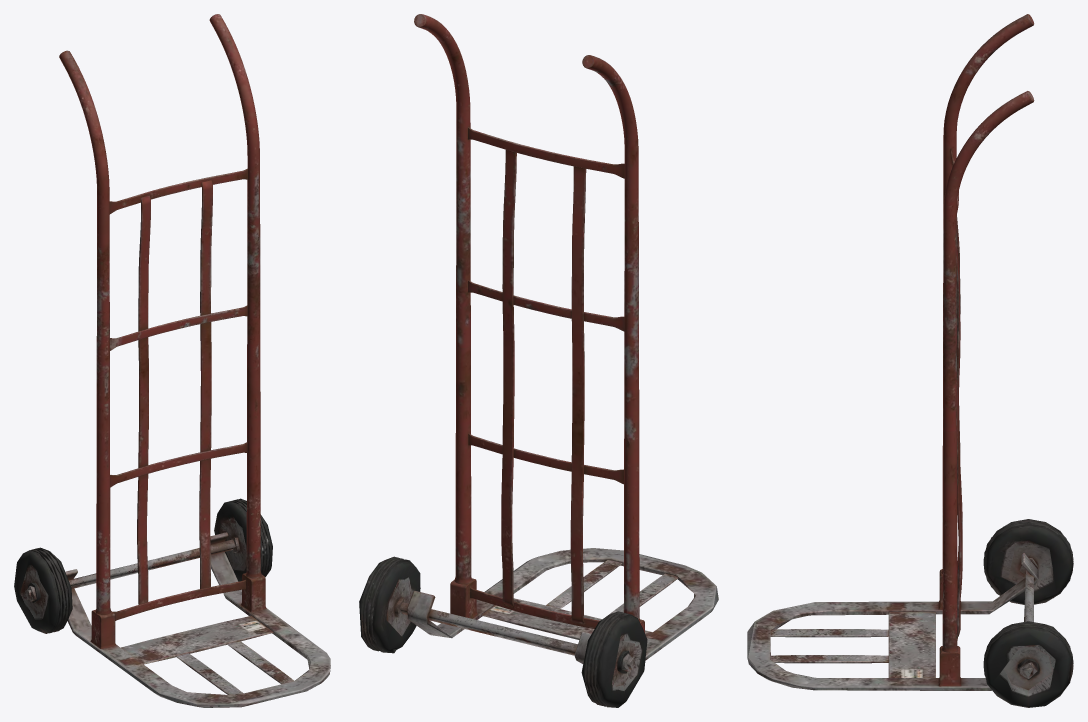
File: handtruck.glb
The picture shows the model from 3 angles, left to right: view 1: azimuth 30°, elevation 25°; view 2: azimuth 150°, elevation 25°; view 3: azimuth 270°, elevation 25°; orthographic projection. The views are drawn at different scales.
Parts seen in each view (by area): view 1: hand_truck; view 2: hand_truck; view 3: hand_truck.
Boxes of the visible parts, x1=… form: hand_truck: x1=14, y1=14, x2=330, y2=707; hand_truck: x1=359, y1=14, x2=718, y2=707; hand_truck: x1=747, y1=14, x2=1073, y2=707.
Size of the model in its own units: 0.5933 by 1.4 by 0.6907.
Materials: 1 (1 with a texture image).
